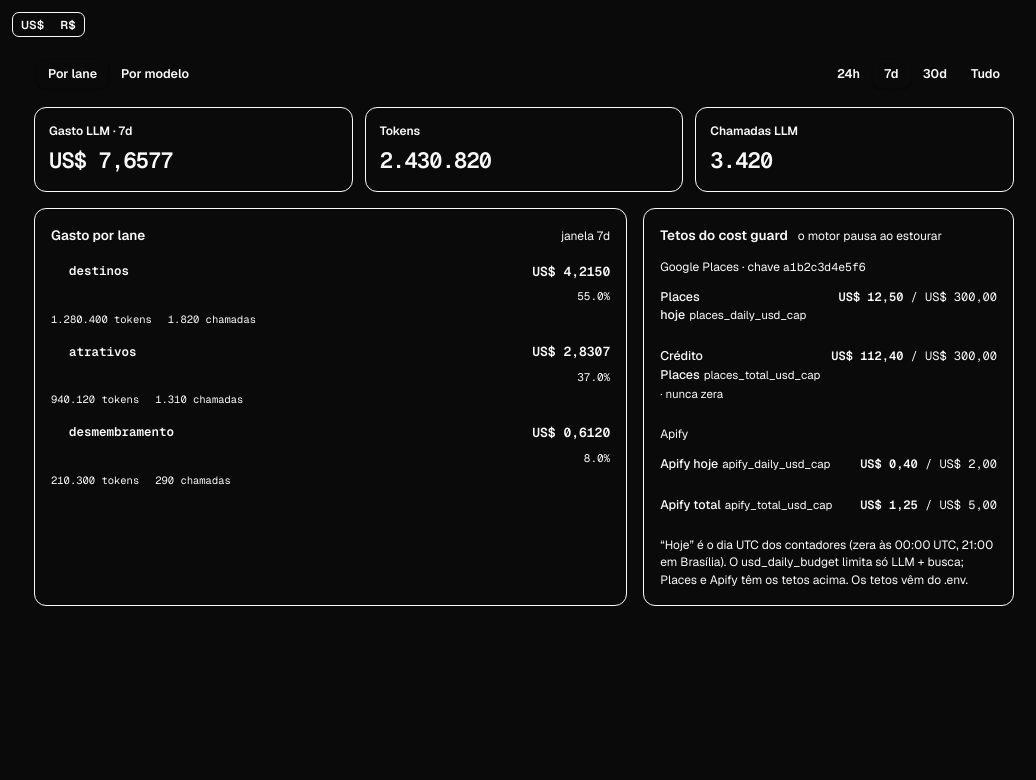
PainelCusto › re-renders every money value on the screen when switching USD <-> BRL
The width and height of the screenshot is (1036, 780).
Check: the element with test id "cap-places-today" is shown, box [660,288,997,335]
Check: the element with test id "custo" shows "US$", box [49,146,173,174]
Step 1. Click the button named "Real" → point(68, 25), box [52,13,84,36]
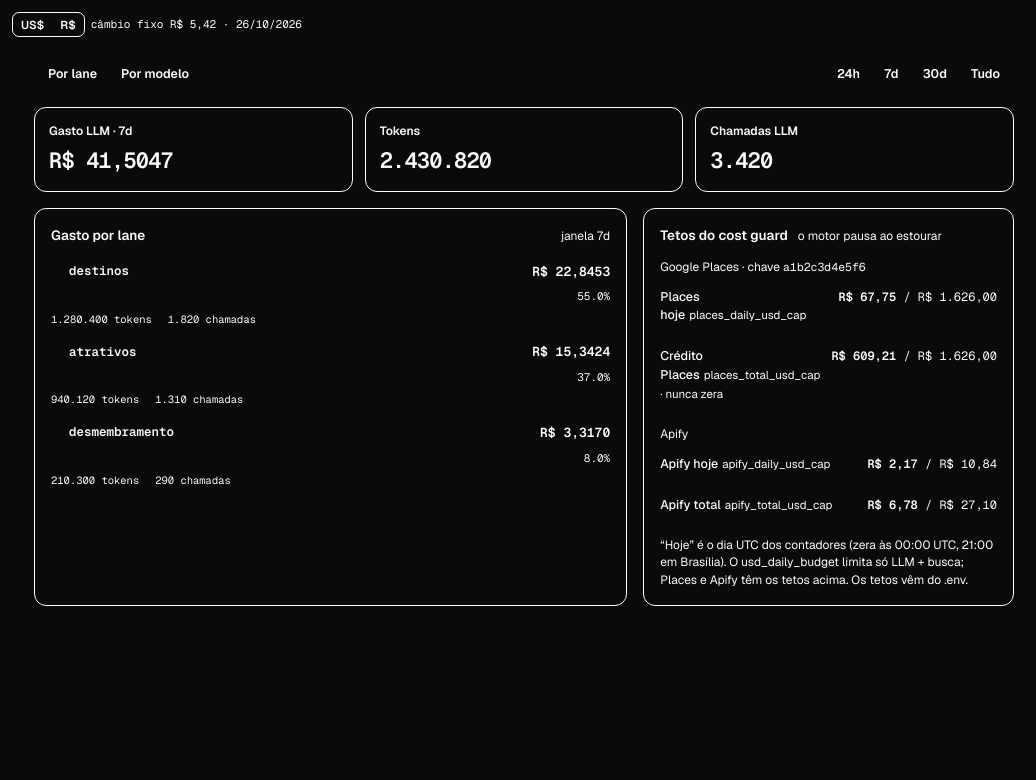
Check: the element with test id "cap-places-today" shows "R$ 67,75", box [839,288,896,304]
Check: the text with test id "cost-total-usd" reads "R$ 41,5047", box [49,146,173,174]
